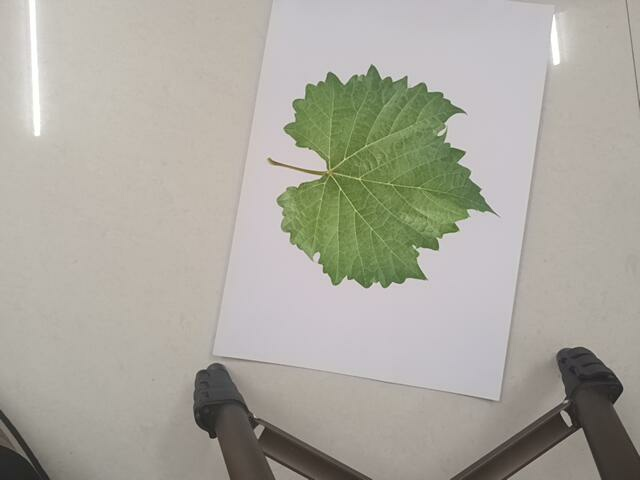Grape_Healthy: (271, 68, 497, 285)
